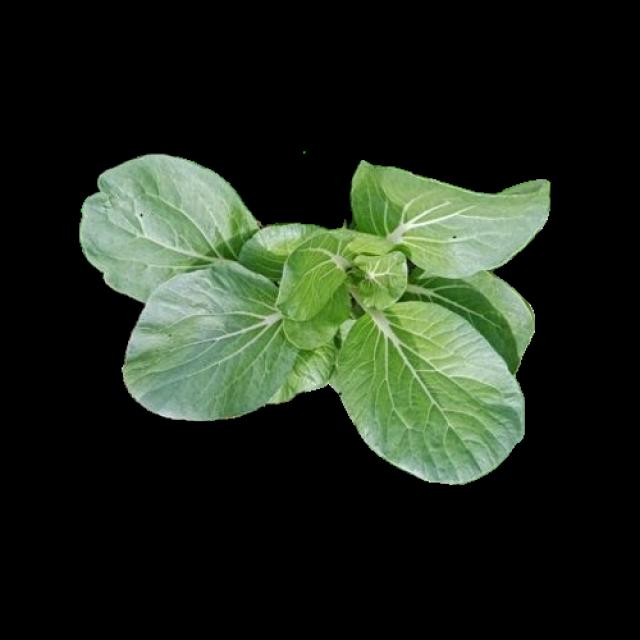not-mature: (77, 156, 553, 485)
unhealthy: (82, 158, 264, 298), (352, 166, 548, 278)
